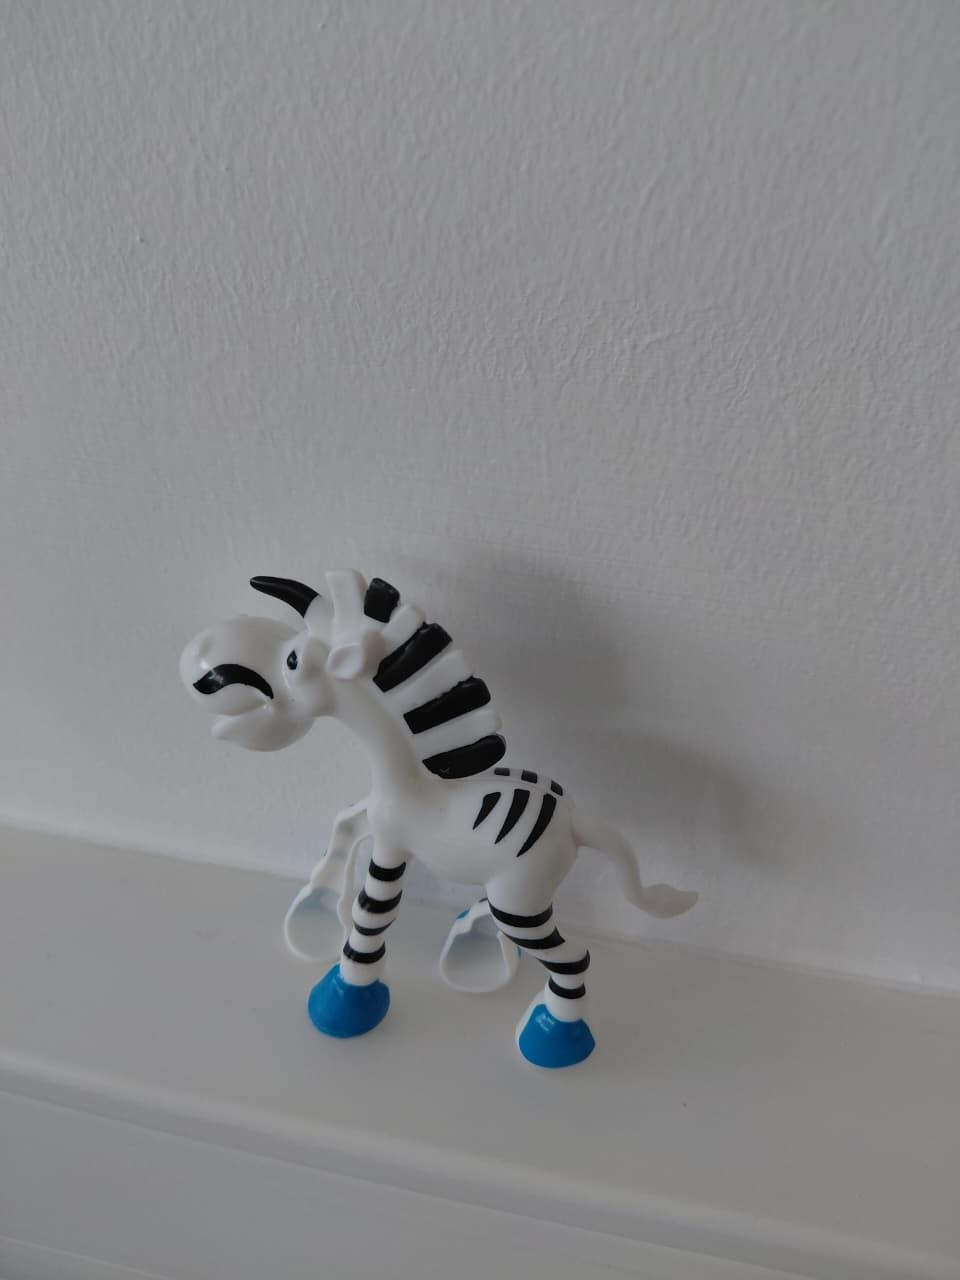zebra: (160, 533, 716, 1145)
